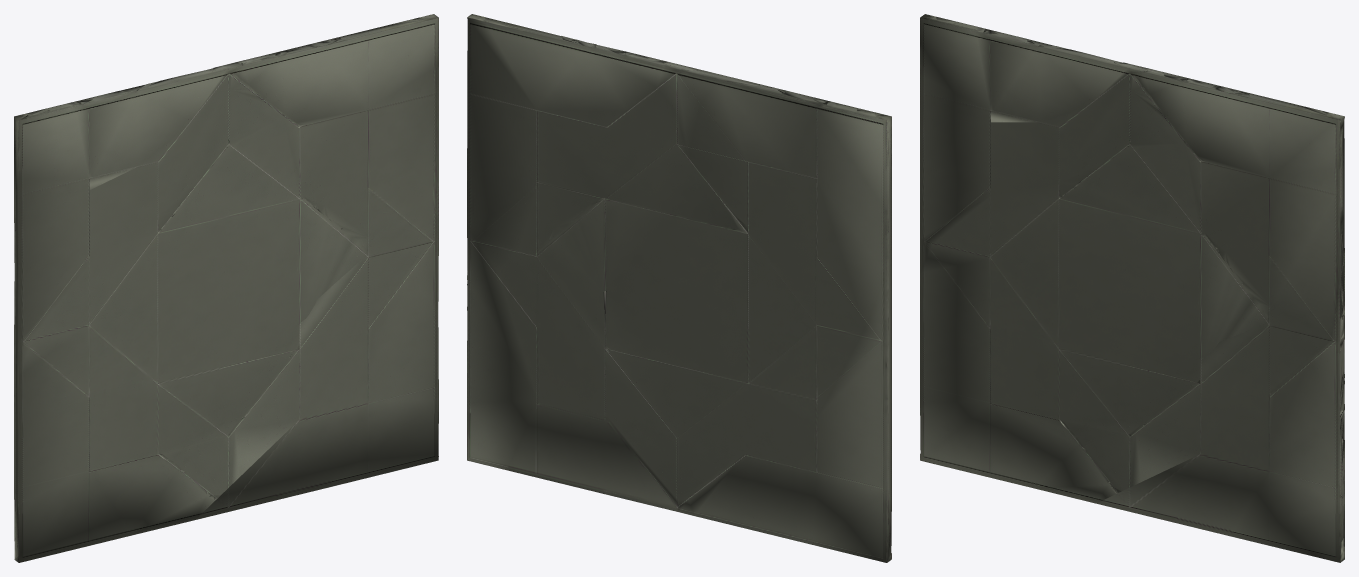
Rendered from ceiling-futuristic-dark.glb.
3 views of the same model, side by side, from view 1: azimuth 30°, elevation 25°; view 2: azimuth 150°, elevation 25°; view 3: azimuth 330°, elevation 25° (orthographic).
Bounding box in the file's own units: 1.9 × 1.91 × 0.04.
Materials: 1 (1 with a texture image).
